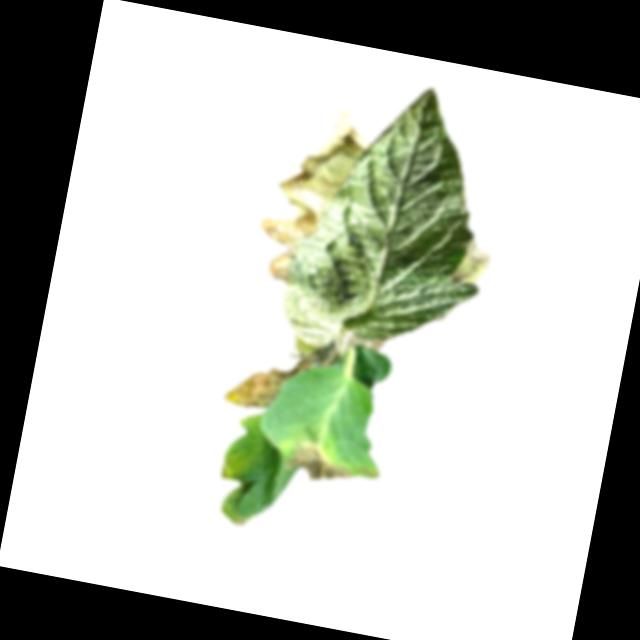Late_blight: (257, 95, 377, 294), (223, 332, 335, 421), (279, 440, 357, 489), (453, 239, 494, 291), (344, 332, 387, 358), (227, 514, 249, 531)
healthy: (277, 68, 513, 374)
